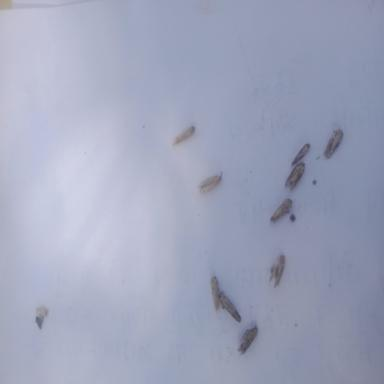pbw: (219, 292, 241, 322), (323, 129, 343, 159), (269, 254, 285, 289), (285, 162, 305, 189), (238, 328, 257, 354), (270, 198, 292, 220), (172, 125, 196, 145), (197, 175, 221, 193), (291, 144, 309, 165), (210, 276, 220, 310)
